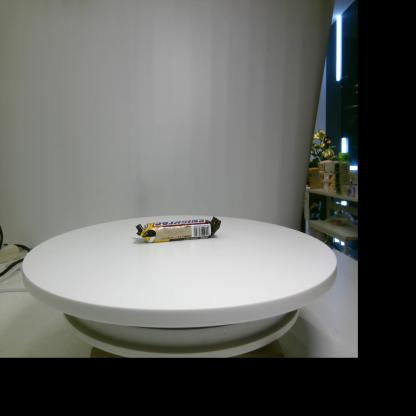Chocolate: (136, 216, 221, 244)
